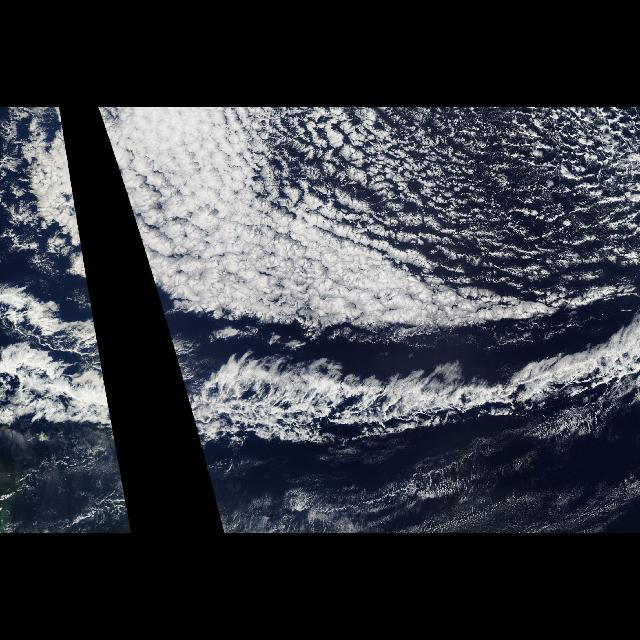Fish: (168, 323, 640, 447), (0, 280, 120, 456)
Flower: (98, 107, 512, 335), (1, 107, 98, 335)
Gravel: (298, 109, 640, 291)
Sugar: (200, 401, 638, 534), (0, 452, 132, 534)
